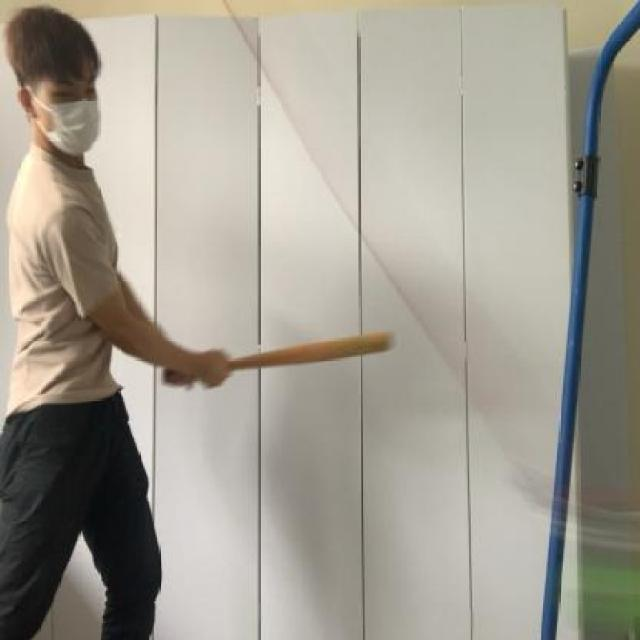baseball: (575, 557, 639, 640)
